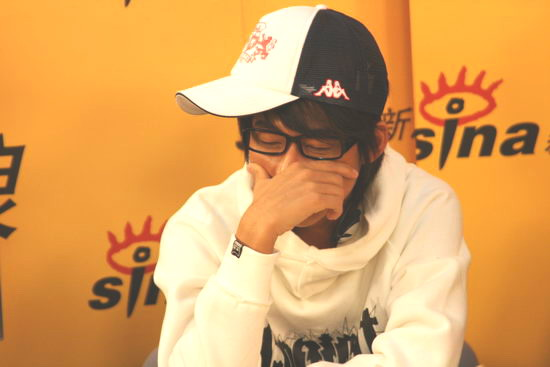face: (247, 101, 348, 227)
